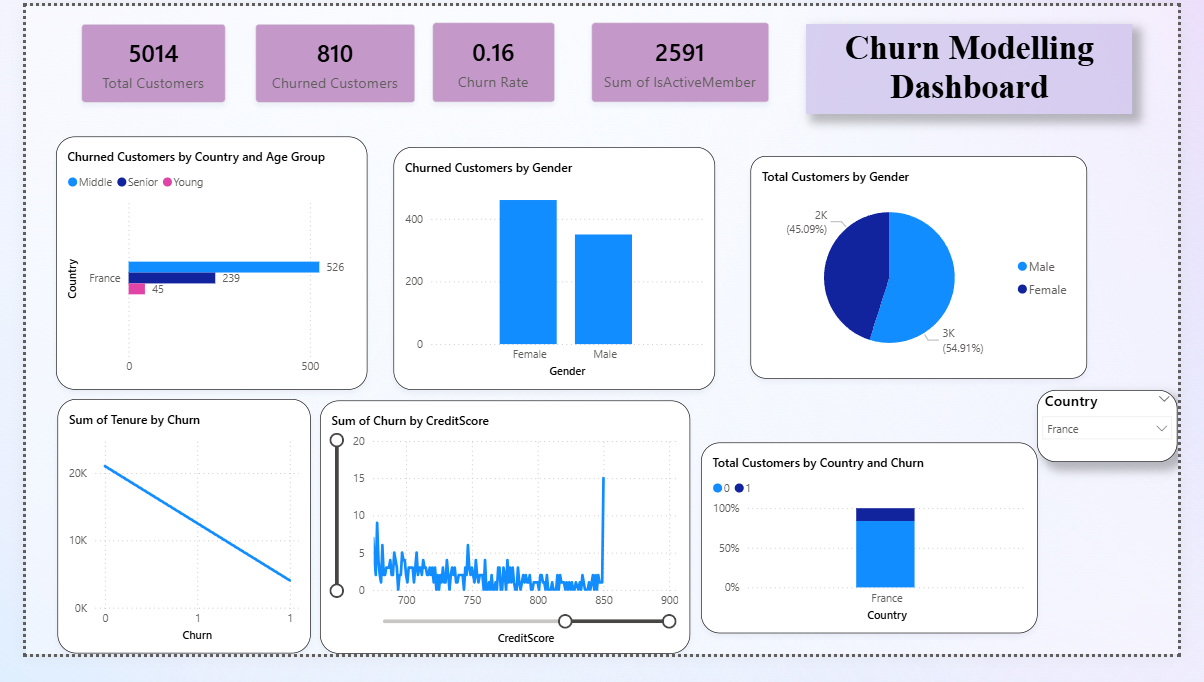

The page's visual inventory and layout, read from the dashboard file:
{"tool":"powerbi","page":{"name":"Page 1","canvas":[1280,720],"ordinal":0},"visuals":[{"type":"card","fields":{"Values":["Churn_Modelling.Total Customers"]},"box":[61.4,20,160,87.1],"z":0},{"type":"card","fields":{"Values":["Churn_Modelling.Churned Customers"]},"box":[255.7,20,177.1,87.1],"z":1000},{"type":"card","fields":{"Values":["Churn_Modelling.Churn Rate"]},"box":[451.4,18.6,135.7,88.6],"z":2000},{"type":"card","fields":{"Values":["Sum(Churn_Modelling.IsActiveMember)"]},"box":[628.6,18.6,197.1,88.6],"z":3000},{"type":"clusteredBarChart","fields":{"Category":["Churn_Modelling.Country"],"Y":["Churn_Modelling.Churned Customers"],"Series":["Churn_Modelling.Age Group"]},"box":[32.9,145.7,345.7,281.4],"z":4000},{"type":"clusteredColumnChart","fields":{"Category":["Churn_Modelling.Gender"],"Y":["Churn_Modelling.Churned Customers"]},"box":[408.6,157.1,357.1,270],"z":5000},{"type":"pieChart","fields":{"Category":["Churn_Modelling.Gender"],"Y":["Churn_Modelling.Total Customers"]},"box":[805.7,167.1,374.3,247.1],"z":6000},{"type":"lineChart","fields":{"Category":["Churn_Modelling.Churn"],"Y":["Sum(Churn_Modelling.Tenure)"]},"box":[34.3,437.1,281.4,282.9],"z":7000},{"type":"lineChart","fields":{"Category":["Churn_Modelling.CreditScore"],"Y":["Sum(Churn_Modelling.Churn)"]},"box":[327.1,438.6,411.4,281.4],"z":8000},{"type":"slicer","fields":{"Values":["Churn_Modelling.Country"]},"box":[1123.5,427,156,80.3],"z":9000},{"type":"textbox","box":[867.1,20,362.9,100],"z":10000},{"type":"hundredPercentStackedColumnChart","fields":{"Category":["Churn_Modelling.Country"],"Y":["Churn_Modelling.Total Customers"],"Series":["Churn_Modelling.Churn"]},"box":[749.5,484.5,374,212],"z":11000}]}

Visuals, with their boxes in screenshot pixels (x1, y1, x2, y2), scaled from the page's 1280x720 canvas onto the 1204x682 screenshot:
card - Churn_Modelling.Total Customers: region(58, 19, 208, 101)
card - Churn_Modelling.Churned Customers: region(241, 19, 407, 101)
card - Churn_Modelling.Churn Rate: region(425, 18, 552, 102)
card - Sum(Churn_Modelling.IsActiveMember): region(591, 18, 777, 102)
clusteredBarChart - Churn_Modelling.Country x Churn_Modelling.Churned Customers: region(31, 138, 356, 405)
clusteredColumnChart - Churn_Modelling.Gender x Churn_Modelling.Churned Customers: region(384, 149, 720, 405)
pieChart - Churn_Modelling.Gender x Churn_Modelling.Total Customers: region(758, 158, 1110, 392)
lineChart - Churn_Modelling.Churn x Sum(Churn_Modelling.Tenure): region(32, 414, 297, 681)
lineChart - Churn_Modelling.CreditScore x Sum(Churn_Modelling.Churn): region(308, 415, 695, 681)
slicer - Churn_Modelling.Country: region(1057, 404, 1203, 481)
textbox: region(816, 19, 1157, 114)
hundredPercentStackedColumnChart - Churn_Modelling.Country x Churn_Modelling.Total Customers: region(705, 459, 1057, 660)
